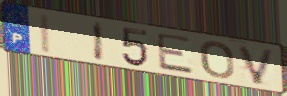5: (120, 26, 150, 67)
E: (155, 31, 197, 76)
I: (38, 12, 54, 56), (92, 20, 106, 64)
O: (198, 40, 236, 80)
V: (236, 44, 278, 87)
